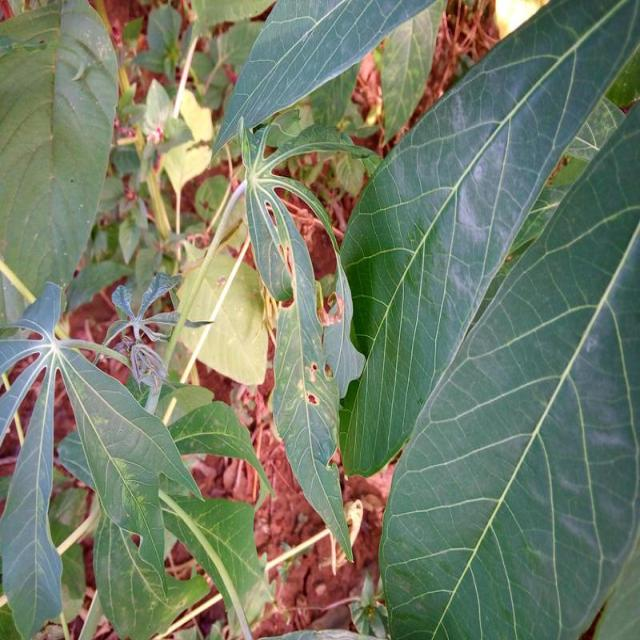cassava leaf: (332, 0, 638, 480), (208, 0, 443, 165), (0, 0, 119, 308)
